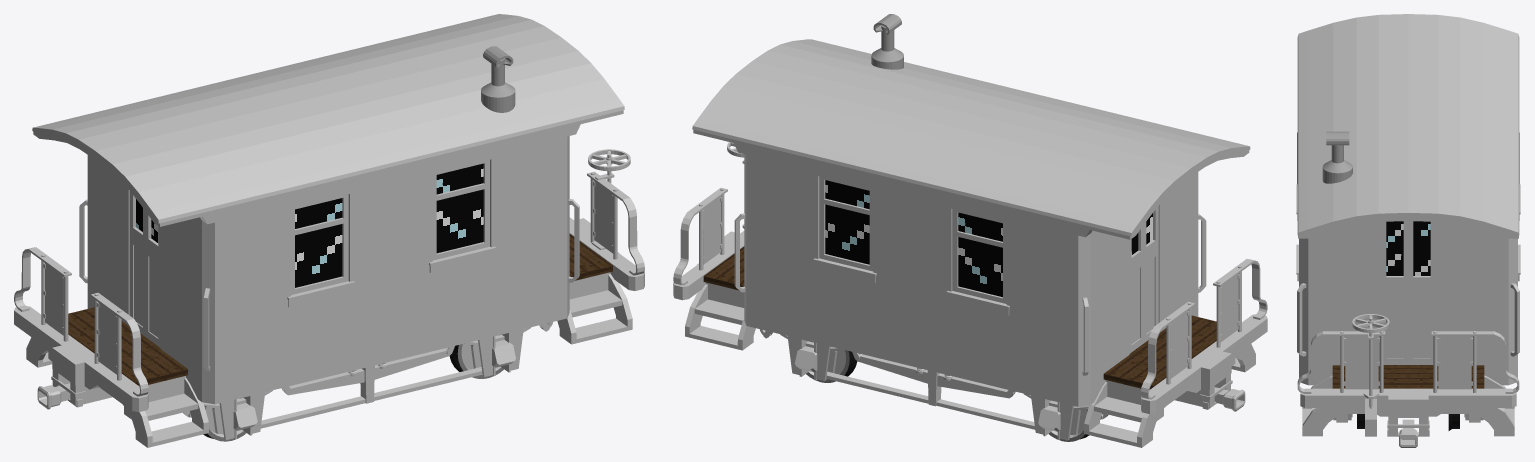
The model's file is waycar.obj.
3 views of the same model, side by side, from view 1: azimuth 30°, elevation 25°; view 2: azimuth 150°, elevation 25°; view 3: azimuth 270°, elevation 25° (orthographic). The views are drawn at different scales.
Visible parts, largest first — view 1: carbody_Cube.004, stepsandrailings_Cube.005, frame_Cube, springrigging_Cube.003, doors_Cube.006, wheelmounts_Cube.002, stove_Cylinder, brakewheel_Cylinder.001, wheel2_Cube.000; view 2: carbody_Cube.004, stepsandrailings_Cube.005, frame_Cube, springrigging_Cube.003, doors_Cube.006, wheelmounts_Cube.002, stove_Cylinder, wheel2_Cube.000; view 3: carbody_Cube.004, stepsandrailings_Cube.005, doors_Cube.006, frame_Cube, brakewheel_Cylinder.001, stove_Cylinder, wheel2_Cube.000.
Part boxes in pixels (x1,y1,x2,y2): carbody_Cube.004: [32, 14, 624, 404]; stepsandrailings_Cube.005: [14, 171, 644, 447]; frame_Cube: [14, 217, 644, 418]; springrigging_Cube.003: [183, 322, 552, 428]; doors_Cube.006: [129, 191, 160, 347]; wheelmounts_Cube.002: [203, 327, 531, 439]; stove_Cylinder: [481, 46, 515, 112]; brakewheel_Cylinder.001: [588, 149, 630, 249]; wheel2_Cube.000: [449, 343, 503, 378]; carbody_Cube.004: [692, 39, 1250, 406]; stepsandrailings_Cube.005: [673, 188, 1267, 447]; frame_Cube: [673, 231, 1267, 420]; springrigging_Cube.003: [760, 329, 1108, 429]; doors_Cube.006: [1129, 206, 1158, 353]; wheelmounts_Cube.002: [780, 334, 1088, 440]; stove_Cylinder: [871, 14, 903, 69]; wheel2_Cube.000: [806, 350, 857, 382]; carbody_Cube.004: [1296, 14, 1520, 385]; stepsandrailings_Cube.005: [1297, 132, 1519, 436]; doors_Cube.006: [1380, 221, 1436, 364]; frame_Cube: [1300, 365, 1516, 447]; brakewheel_Cylinder.001: [1352, 314, 1389, 436]; stove_Cylinder: [1322, 131, 1352, 183]; wheel2_Cube.000: [1357, 414, 1459, 430].
Bounding box in the file's own units: 6.02 × 3.38 × 2.33.
